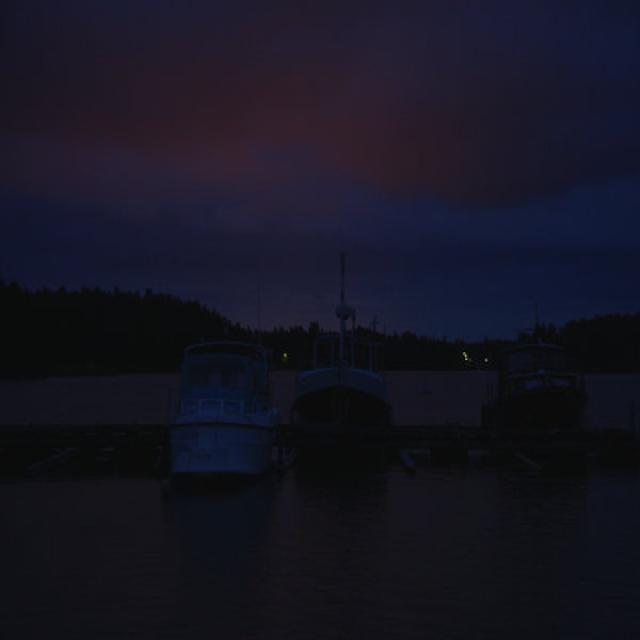Boat: (293, 270, 404, 491), (168, 350, 282, 505), (477, 310, 596, 457)
